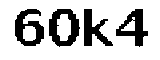0: (46, 5, 80, 49)
4: (114, 6, 152, 50)
6: (9, 4, 44, 48)
k: (83, 8, 117, 51)
